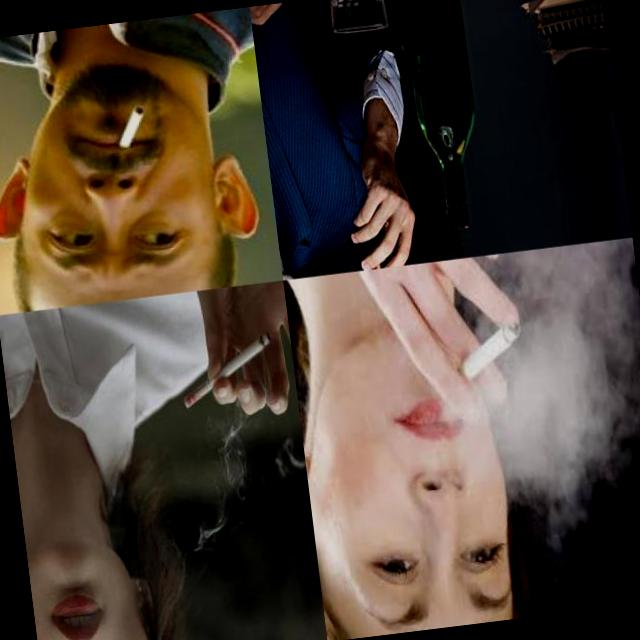cigarette: (176, 328, 302, 428), (447, 318, 525, 386), (116, 105, 160, 156), (369, 258, 381, 270)
